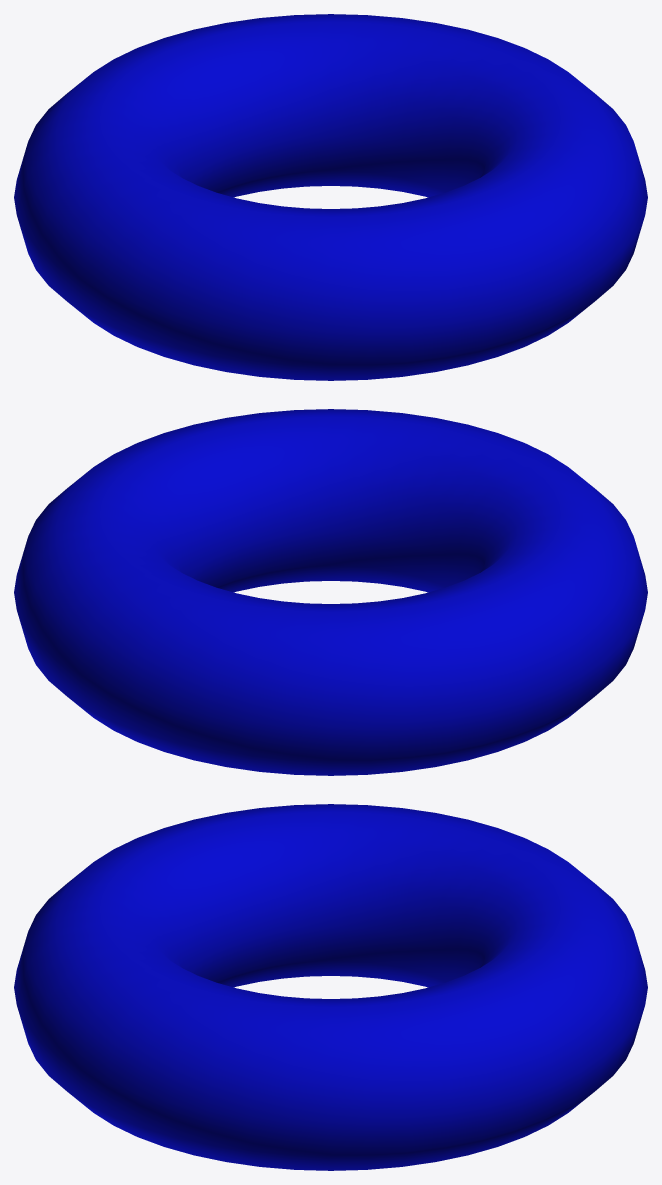
File: shellTorus.obj
The picture shows the model from 3 angles, top to bottom: view 1: azimuth 30°, elevation 25°; view 2: azimuth 150°, elevation 25°; view 3: azimuth 270°, elevation 25°; orthographic projection.
Visible parts, largest first — view 1: torus; view 2: torus; view 3: torus.
Boxes of the visible parts, box(x1,y1,x2,y2) form: torus: box(14, 14, 647, 380); torus: box(14, 409, 647, 775); torus: box(14, 804, 647, 1170).
Bounding box in the file's own units: 111 × 30.2 × 111.
